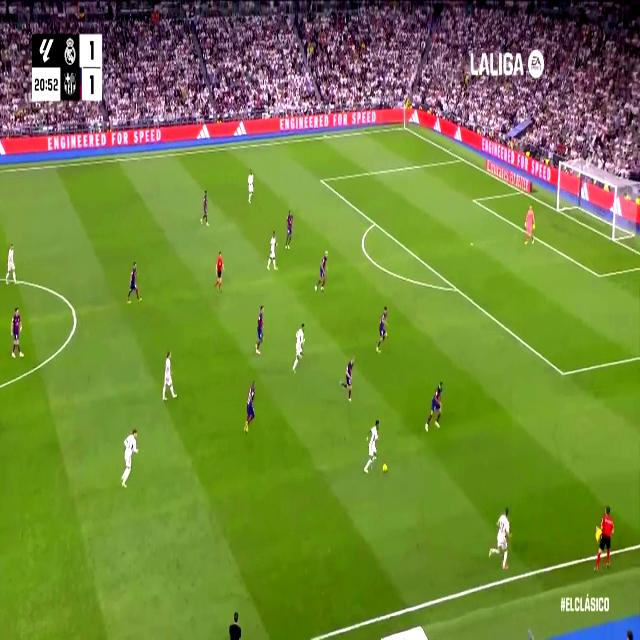bigarea_bottom_inner: (558, 362, 568, 384)
bigarea_top_inner: (319, 174, 324, 186)
bigarea_top_outter: (457, 152, 465, 164)
bottom_arc_area_intersection: (451, 280, 461, 296)
corner: (400, 121, 408, 131)
smallarea_bottom_inner: (595, 266, 603, 284)
smallarea_top_inner: (472, 196, 476, 204)
top_arc_area_intersection: (372, 215, 378, 229)
